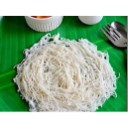idiyappam: (23, 36, 117, 112)
